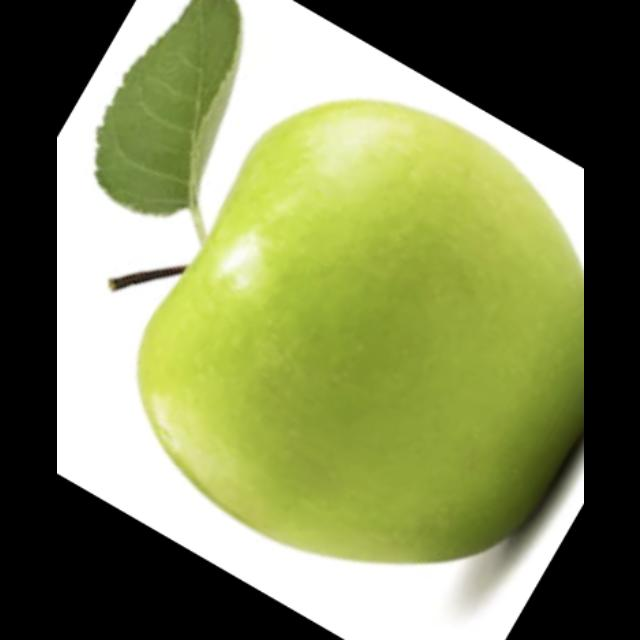Apel Segar: (138, 95, 584, 575)
